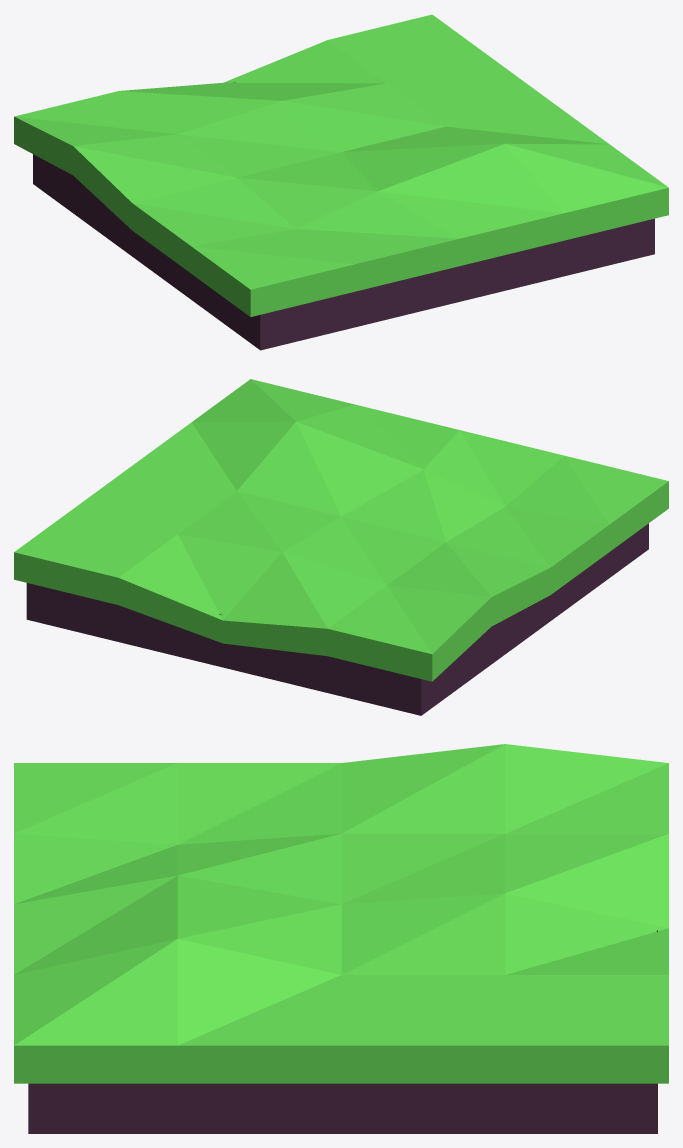
File: platform1.fbx
The picture shows the model from 3 angles, top to bottom: view 1: azimuth 30°, elevation 25°; view 2: azimuth 150°, elevation 25°; view 3: azimuth 270°, elevation 25°; orthographic projection. The views are drawn at different scales.
Parts seen in each view (by area): view 1: Cube.011, Cube.010; view 2: Cube.011, Cube.010; view 3: Cube.011, Cube.010.
Boxes of the visible parts, x1,y1,x2,y2 form: Cube.011: (14,14,668,316); Cube.010: (33,82,654,350); Cube.011: (14,379,668,681); Cube.010: (26,523,648,715); Cube.011: (14,744,668,1083); Cube.010: (28,930,657,1133).
Size of the model in its own units: 528 by 114 by 517.
